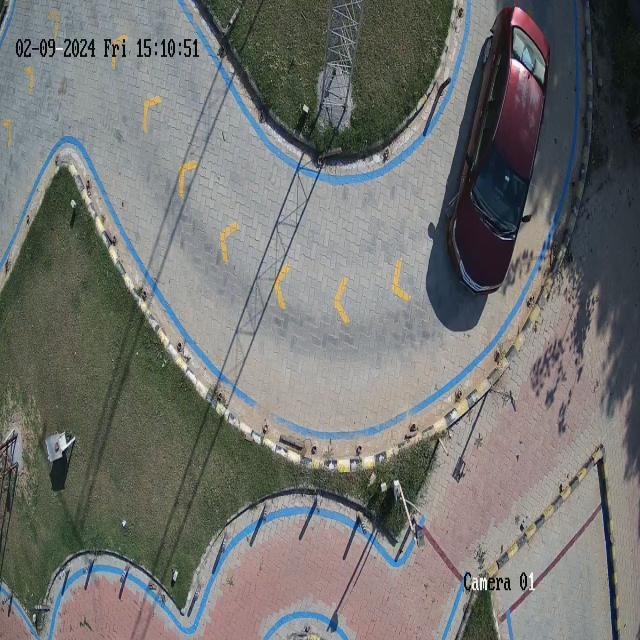car: (448, 9, 549, 293)
